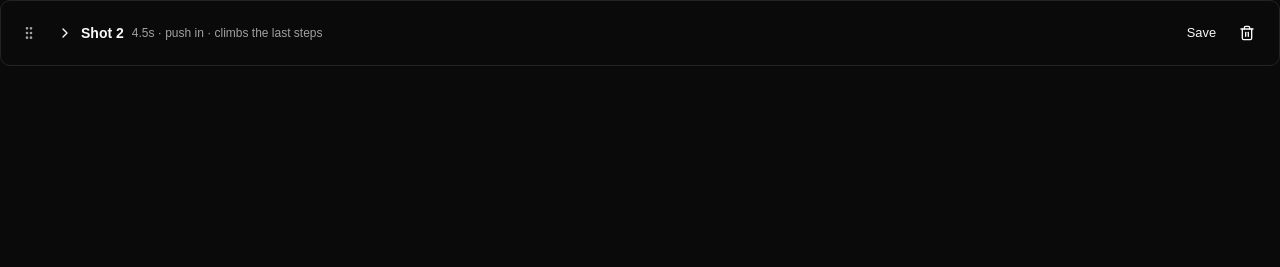
it: ShotRow › offers a cut on a later shot
This screenshot has width=1280, height=267.
Click the button "Shot 2 4.5s · push in · climbs the last steps".
click(98, 33)  # box [49,19,1168,47]
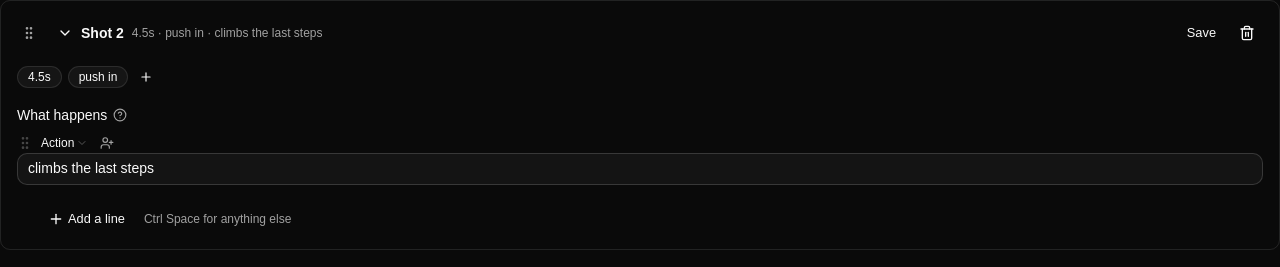
Click the button named "Set more about shot 2".
click(146, 77)  # box [134,65,158,89]
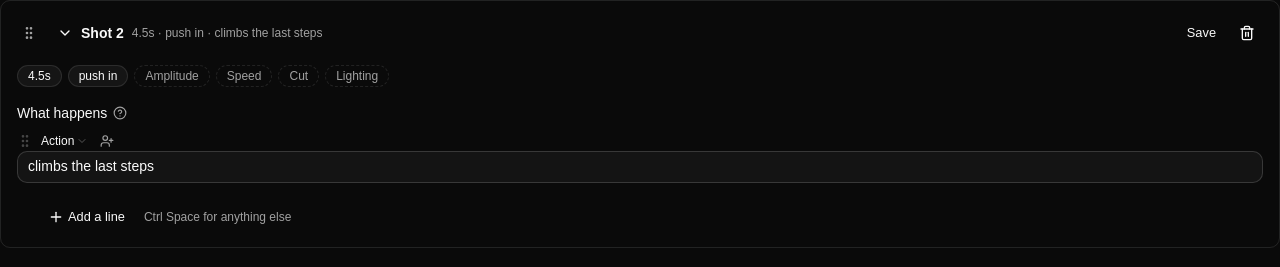
Expected: the button with aria-label "Cut of shot 11" is shown, [278,65,319,87]
